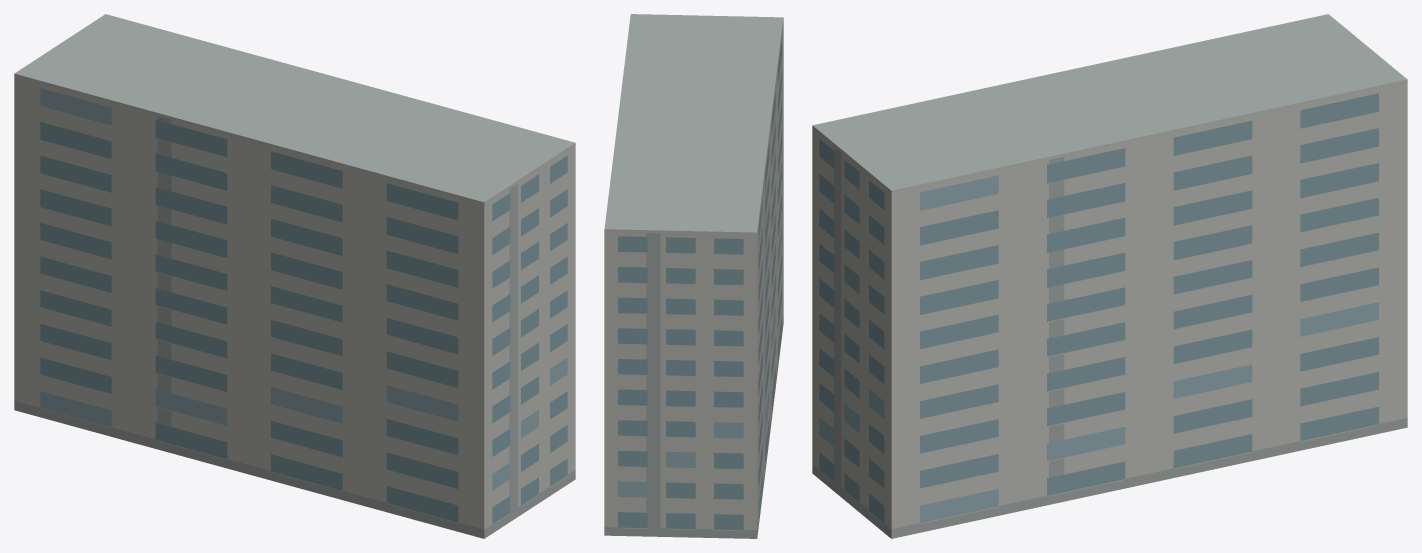
File: residential-6fe2e5bd-1e52-4085-ad90-d921430a744c.glb
3 renders of one model, left to right at view 1: azimuth 30°, elevation 25°; view 2: azimuth 150°, elevation 25°; view 3: azimuth 270°, elevation 25°, orthographic. The views are drawn at different scales.
Visible parts, largest first — view 1: residential-6fe2e5bd-1e52-4085-ad90-d921430a744c.tmp; view 2: residential-6fe2e5bd-1e52-4085-ad90-d921430a744c.tmp; view 3: residential-6fe2e5bd-1e52-4085-ad90-d921430a744c.tmp.
Part boxes in pixels (box(x1,y1,x2,y2)): residential-6fe2e5bd-1e52-4085-ad90-d921430a744c.tmp: box(14, 14, 575, 538); residential-6fe2e5bd-1e52-4085-ad90-d921430a744c.tmp: box(604, 14, 783, 538); residential-6fe2e5bd-1e52-4085-ad90-d921430a744c.tmp: box(812, 14, 1407, 538).
Size of the model in its own units: 29.41 by 27 by 41.83.
